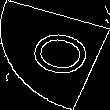O_E: (15, 26, 95, 84)
